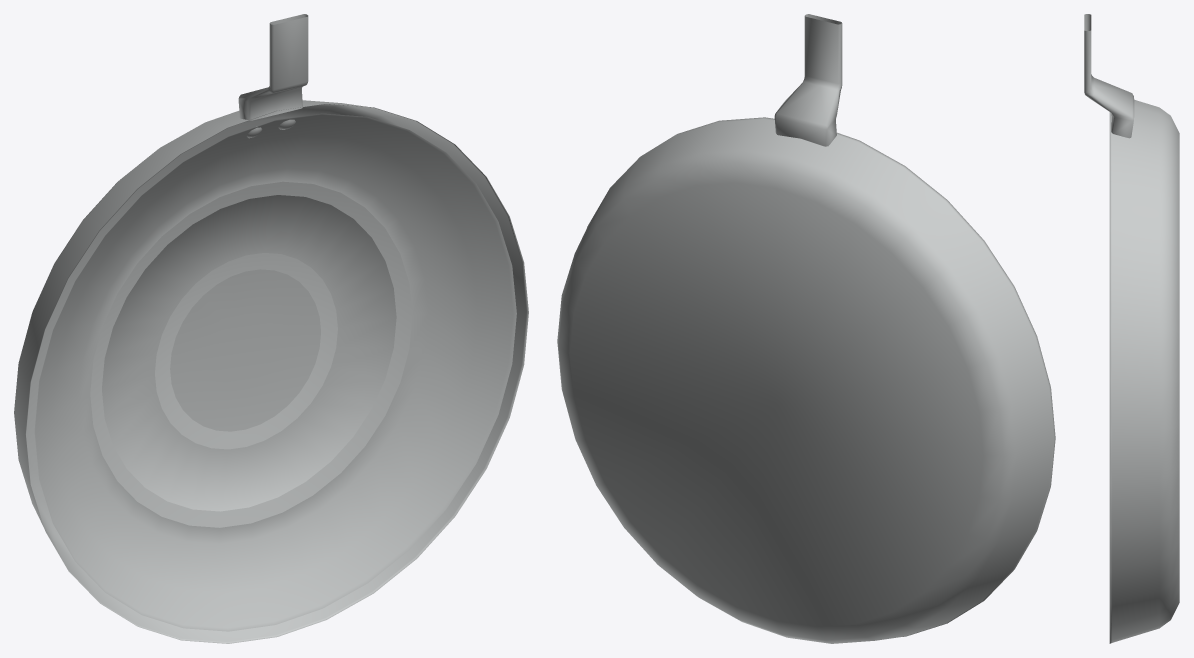
File: MeshPan_15_0_GeomSubset_0.obj
3 renders of one model, left to right at view 1: azimuth 30°, elevation 25°; view 2: azimuth 150°, elevation 25°; view 3: azimuth 270°, elevation 25°, orthographic. The views are drawn at different scales.
Visible parts, largest first — view 1: MeshPan_15_0_GeomSubset_0; view 2: MeshPan_15_0_GeomSubset_0; view 3: MeshPan_15_0_GeomSubset_0.
Part boxes in pixels (x1,y1,x2,y2): MeshPan_15_0_GeomSubset_0: (14,14,528,643); MeshPan_15_0_GeomSubset_0: (557,14,1055,643); MeshPan_15_0_GeomSubset_0: (1084,14,1179,643).
Bounding box in the file's own units: 0.2463 × 0.293 × 0.0426.
